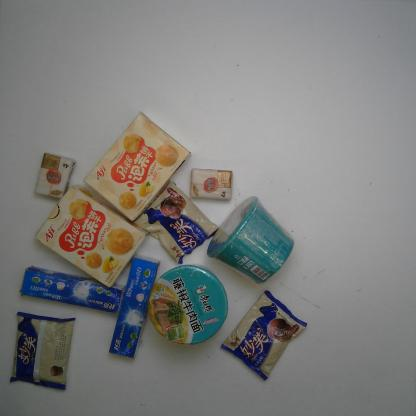Dessert: (80, 107, 192, 222), (32, 182, 148, 288), (214, 289, 310, 381), (129, 178, 217, 264), (8, 311, 77, 391)
Instant Noodles: (204, 194, 296, 286), (145, 260, 228, 348)
Personal Hygiene: (107, 254, 161, 359), (16, 263, 127, 313)
Tissue: (33, 151, 76, 200), (189, 167, 234, 201)
